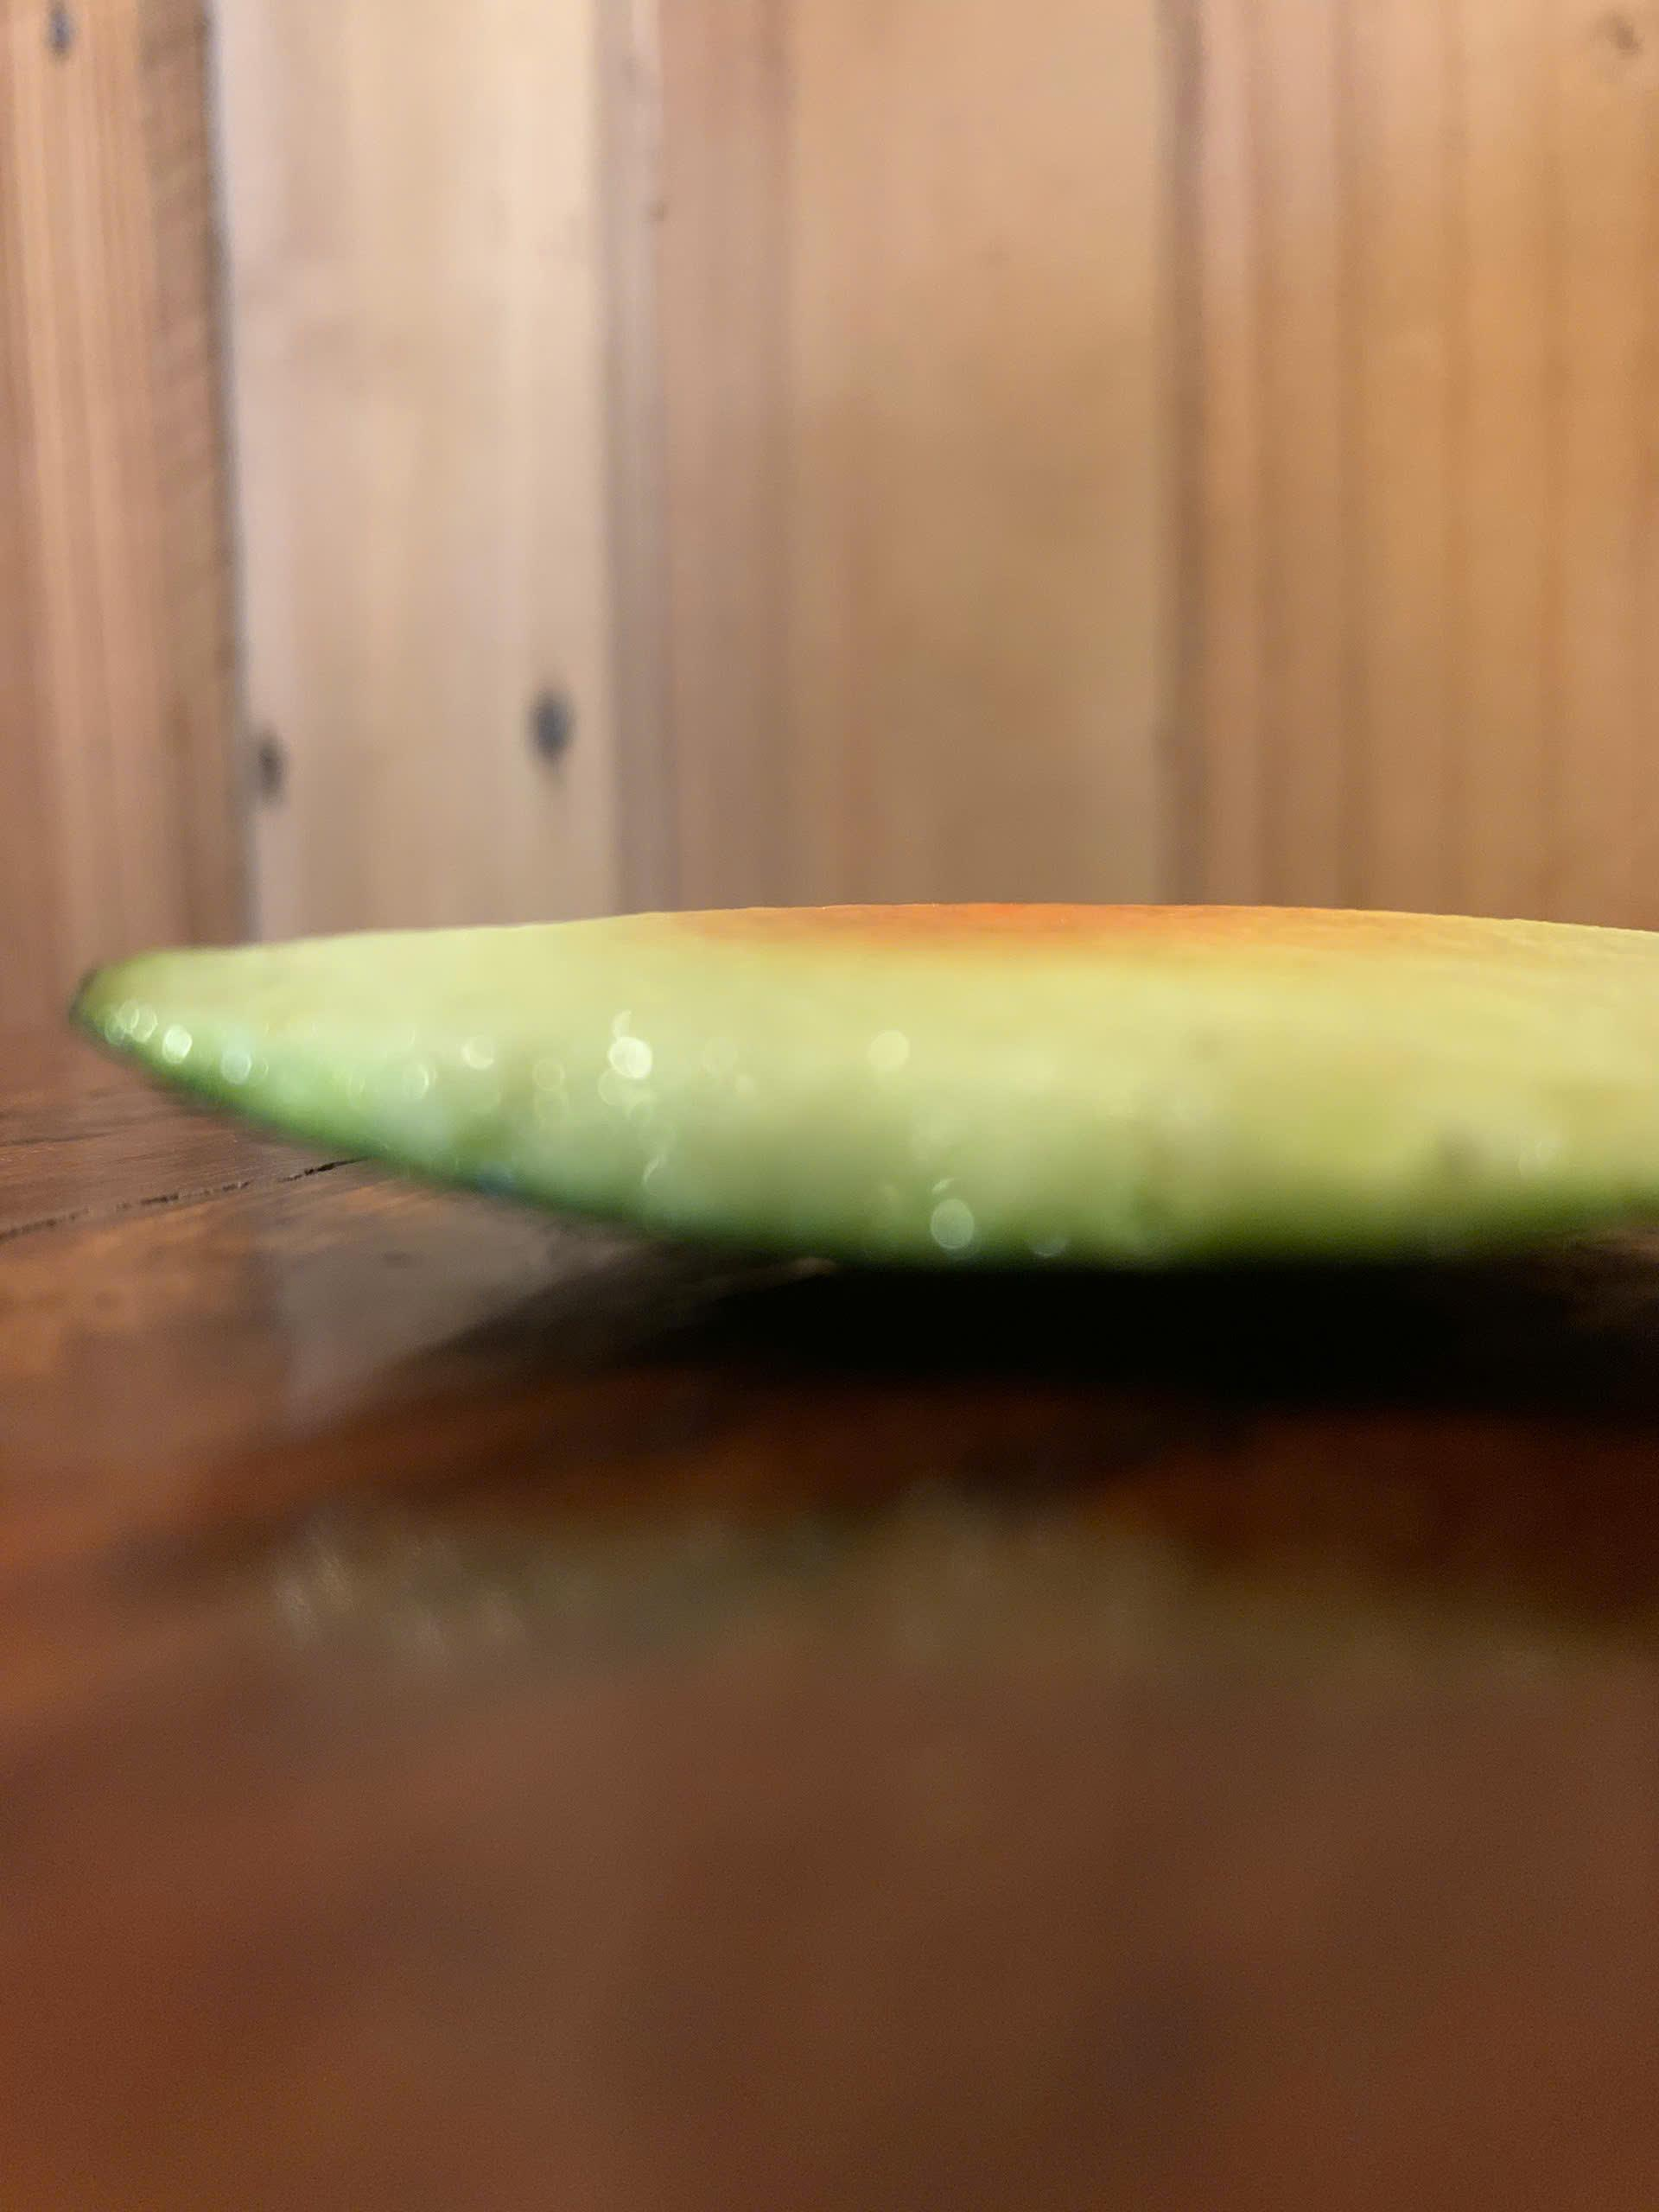Huu co: (91, 883, 1659, 1249)
